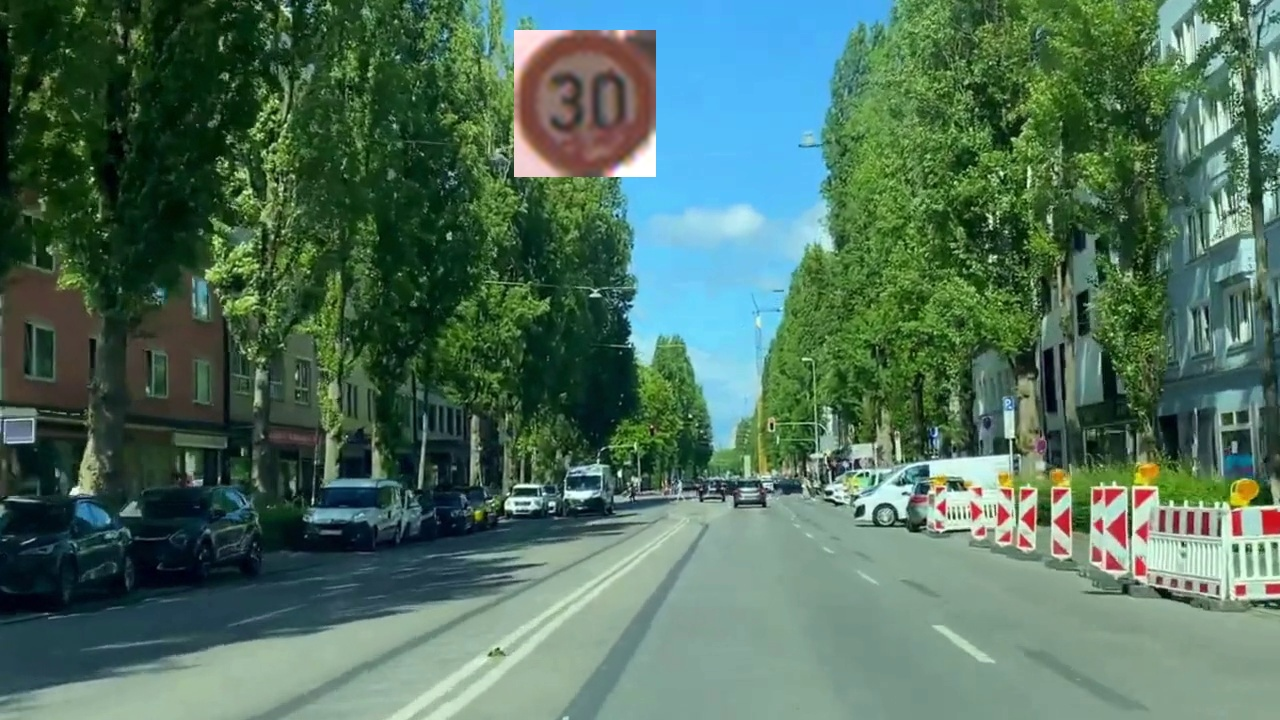Speed 30: (514, 30, 656, 177)
